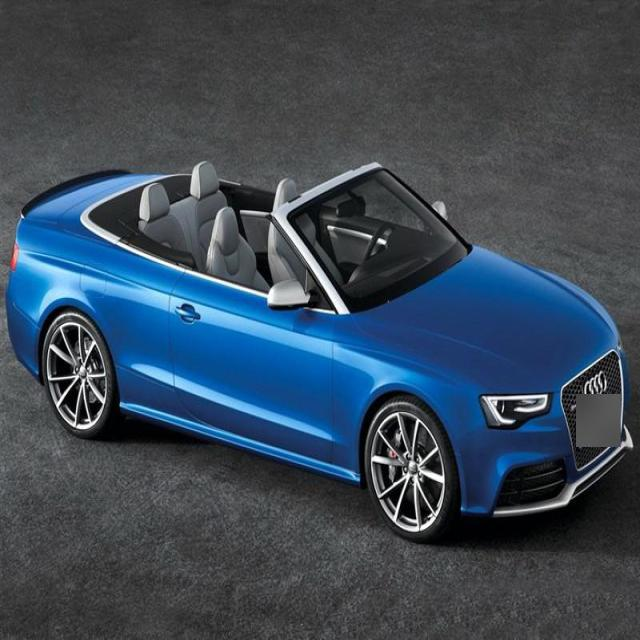back_right_side_light: (7, 237, 26, 275)
front_bumper: (458, 362, 631, 520)
front_glass: (287, 164, 470, 318)
front_left_side_mirror: (429, 196, 451, 222)
front_right_side_door: (168, 260, 338, 468)
front_right_side_light: (478, 388, 551, 431)
front_right_side_mirror: (266, 279, 312, 310)
wheel: (362, 398, 453, 538), (42, 310, 114, 437)
